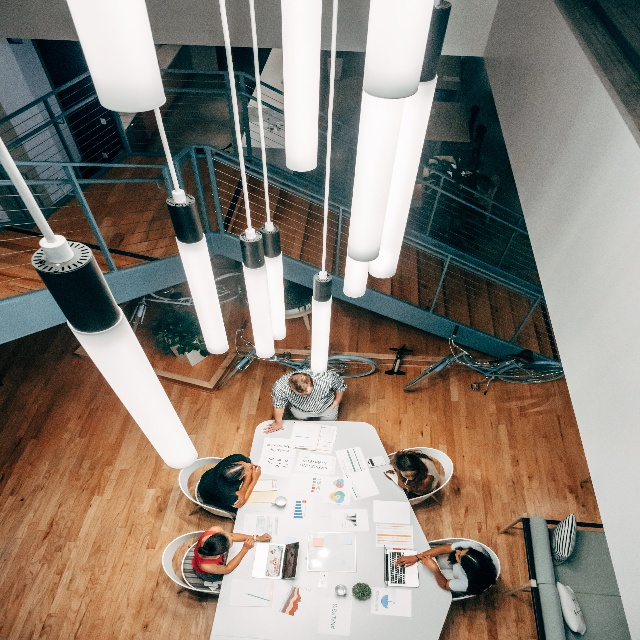Sin_guantes: (420, 553, 438, 572), (395, 555, 417, 568), (262, 421, 284, 434), (232, 490, 245, 508), (397, 476, 410, 491), (252, 464, 262, 482), (243, 536, 255, 550), (258, 532, 272, 542), (383, 469, 395, 480), (330, 399, 339, 411)
